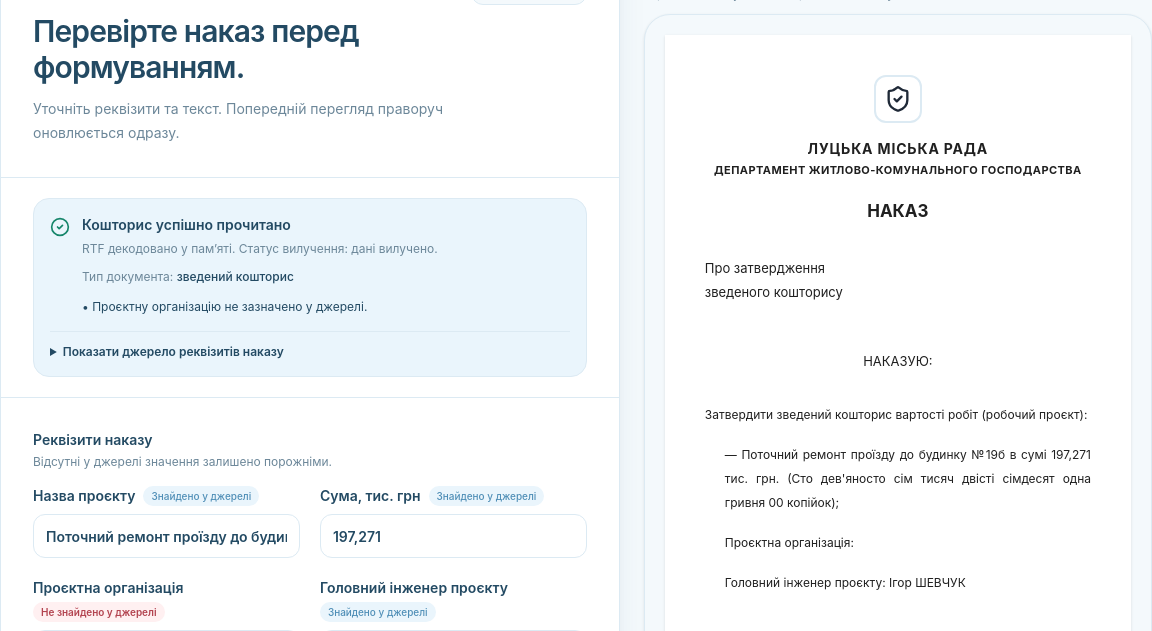
Test: ReviewEditStep › keeps decimal thousand-UAH input in the preview and recalculates its wording
The width and height of the screenshot is (1152, 631).
Type "36,923" into the field labelled "Сума, тис. грн Знайдено у джерелі". click: [453, 536]
box: x1=320 y1=514 x2=587 y2=558
(page scrolled)
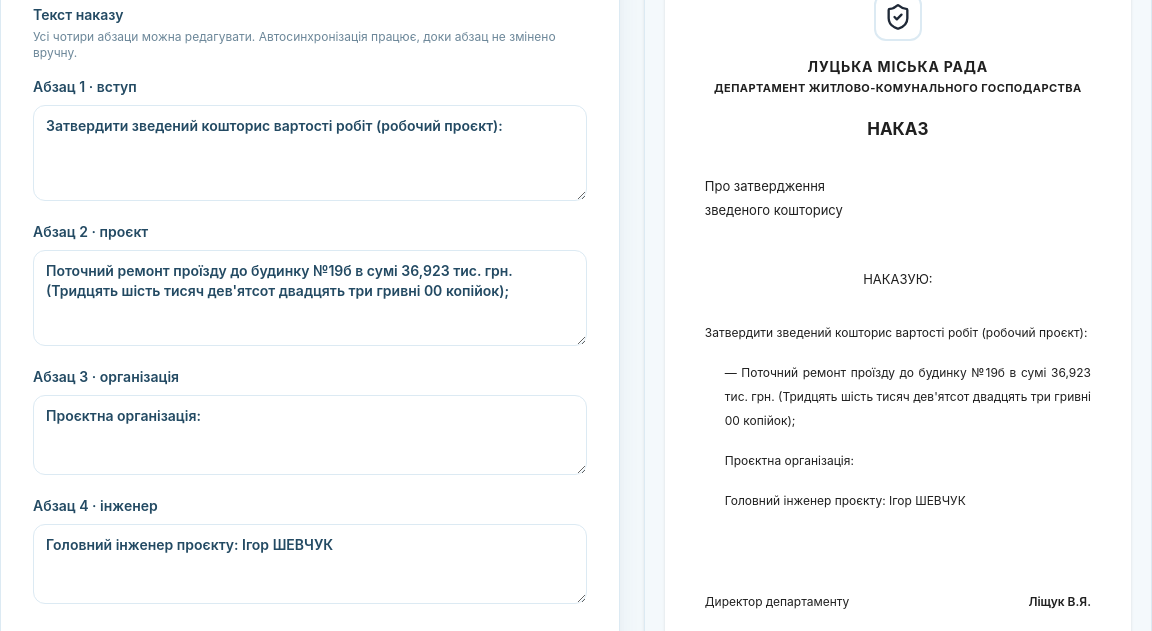
Now the text box showing "в сумі 36,923 тис. грн." is shown, box x1=33 y1=250 x2=587 y2=346
